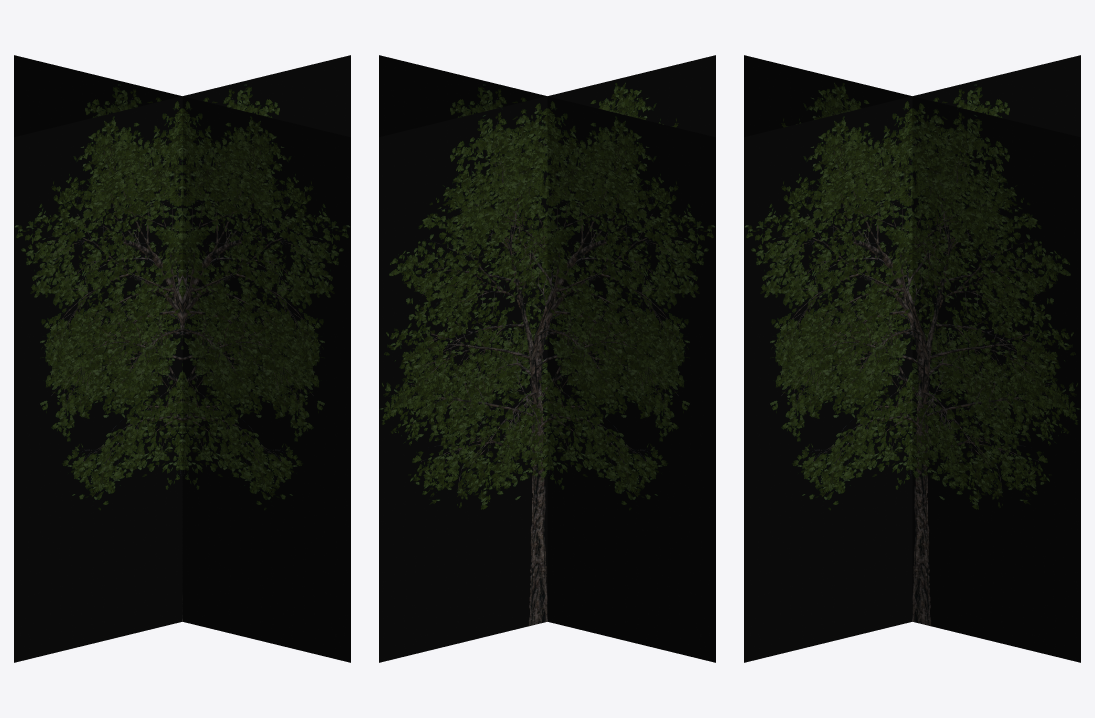
The model's file is tree_01_lod3.glb.
The picture shows the model from 3 angles, left to right: view 1: azimuth 30°, elevation 25°; view 2: azimuth 150°, elevation 25°; view 3: azimuth 270°, elevation 25°; orthographic projection.
Visible parts, largest first — view 1: Tree_01_LOD3; view 2: Tree_01_LOD3; view 3: Tree_01_LOD3.
Part boxes in pixels (box(x1,y1,x2,y2)): Tree_01_LOD3: box(14, 55, 350, 662); Tree_01_LOD3: box(379, 55, 715, 662); Tree_01_LOD3: box(744, 55, 1080, 662).
Bounding box in the file's own units: 9.48 × 14.13 × 8.21.
Materials: 1 (1 with a texture image).
